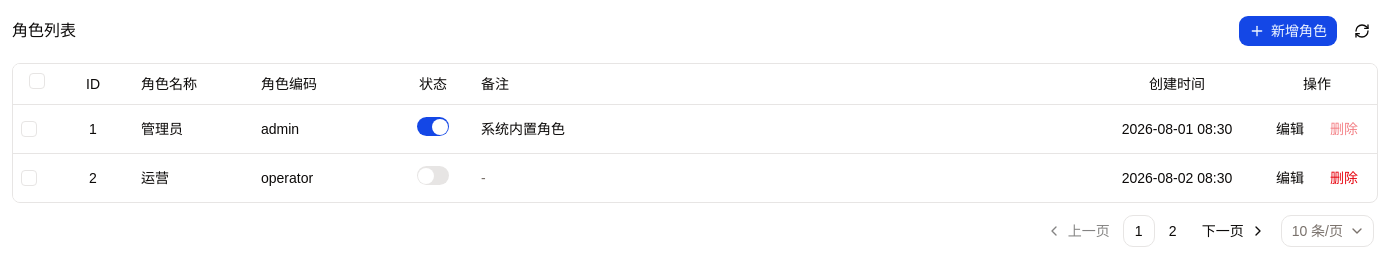
Test case: Roles page › 勾选行展示已选数量，取消勾选后数量同步更新
Check: the text "管理员" is shown, box x1=133 y1=104 x2=253 y2=153
Check: the text "已选" is not shown
Click the checkbox named "选择第 1 行".
click(29, 128)  # box x1=21 y1=120 x2=37 y2=136
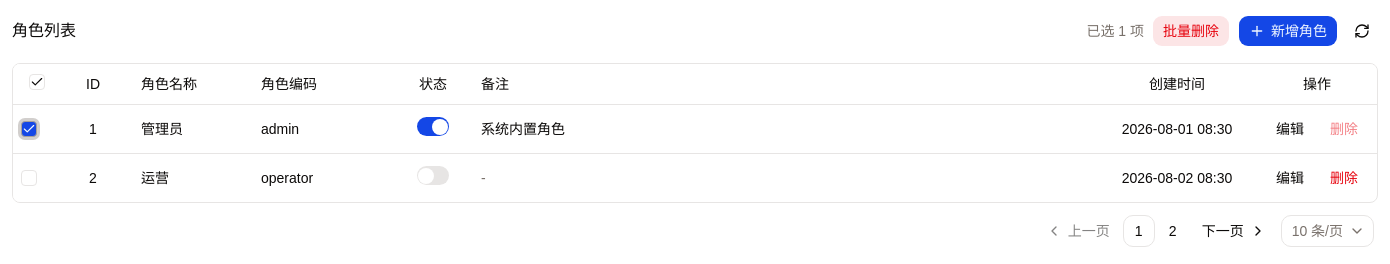
Check: the text "已选 1 项" is shown, box x1=1086 y1=21 x2=1144 y2=41
Click the checkbox named "选择第 2 行".
click(29, 178)  # box x1=21 y1=170 x2=37 y2=186
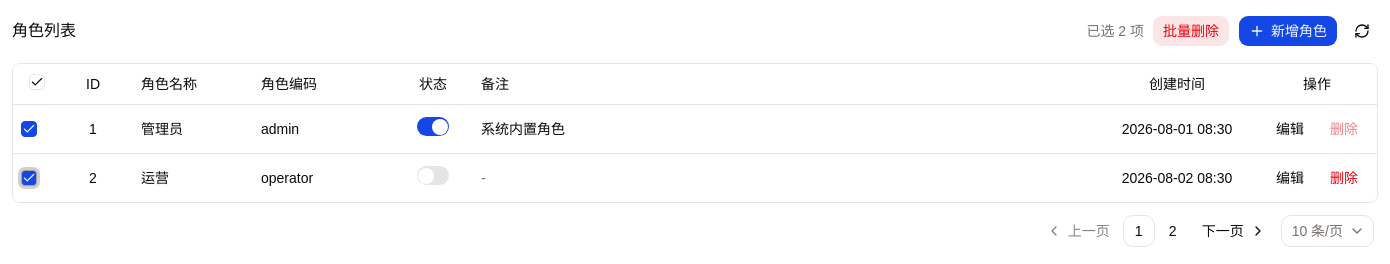
Check: the text "已选 2 项" is shown, box x1=1086 y1=21 x2=1144 y2=41
Click the checkbox named "选择第 1 行".
click(29, 128)  # box x1=21 y1=120 x2=37 y2=136
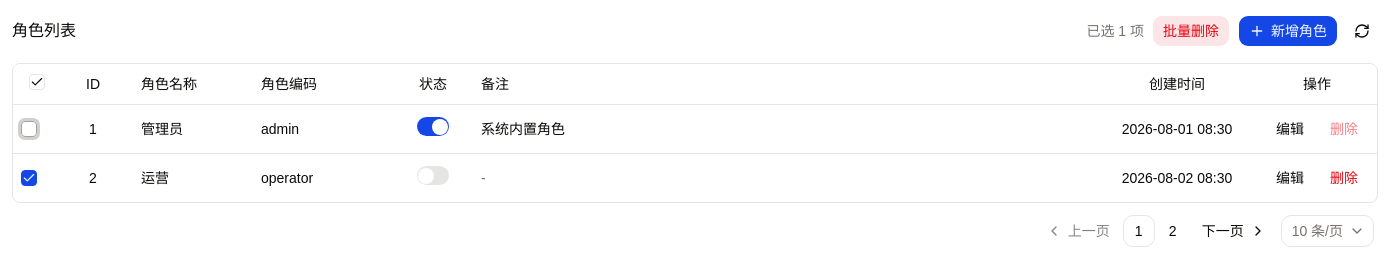
Check: the text "已选 1 项" is shown, box x1=1086 y1=21 x2=1144 y2=41
